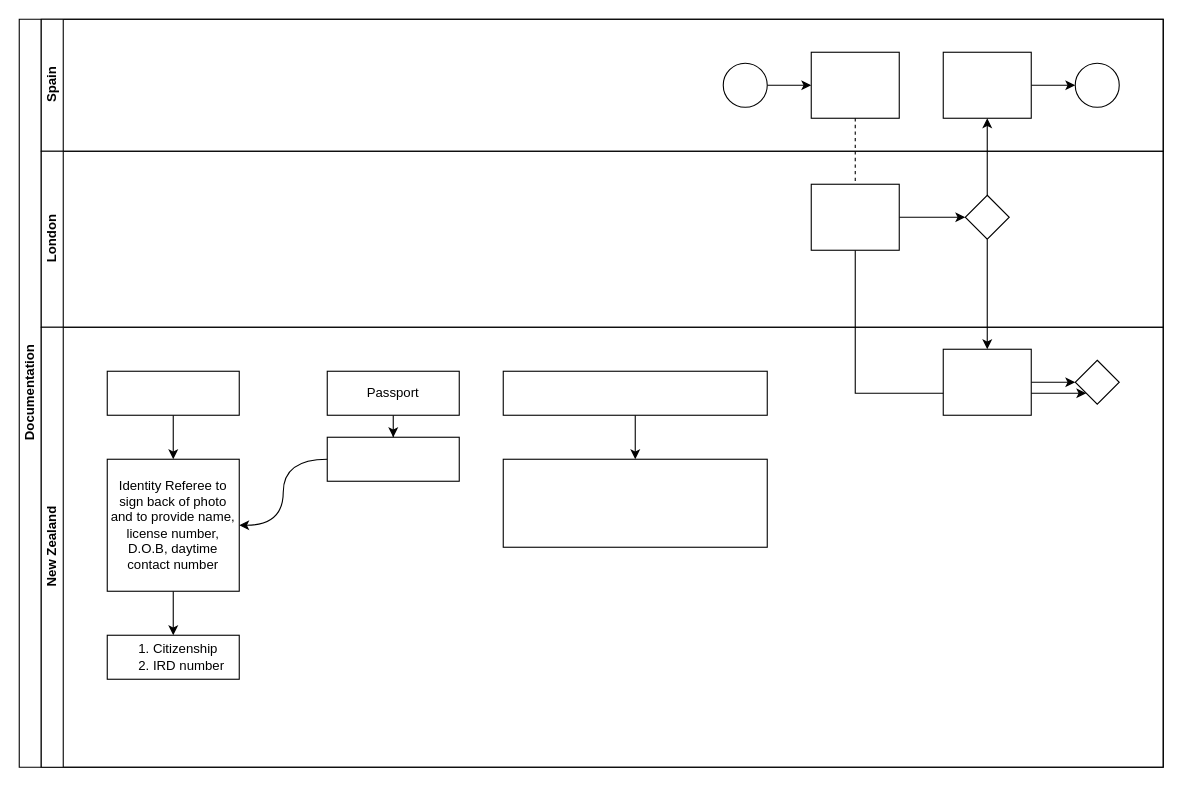
This 1183x787 diagram has some shape labels left out. Here are the shapes that lost their labels. From the top down, the centre of each, then its label:
(x=172, y=392): License
(x=634, y=392): Travel Vaccine Pass
(x=392, y=458): Get photo taken at a pharmacy.
(x=634, y=502): Online through My Covid Record. Over the phone. Pharmacy (in person).
